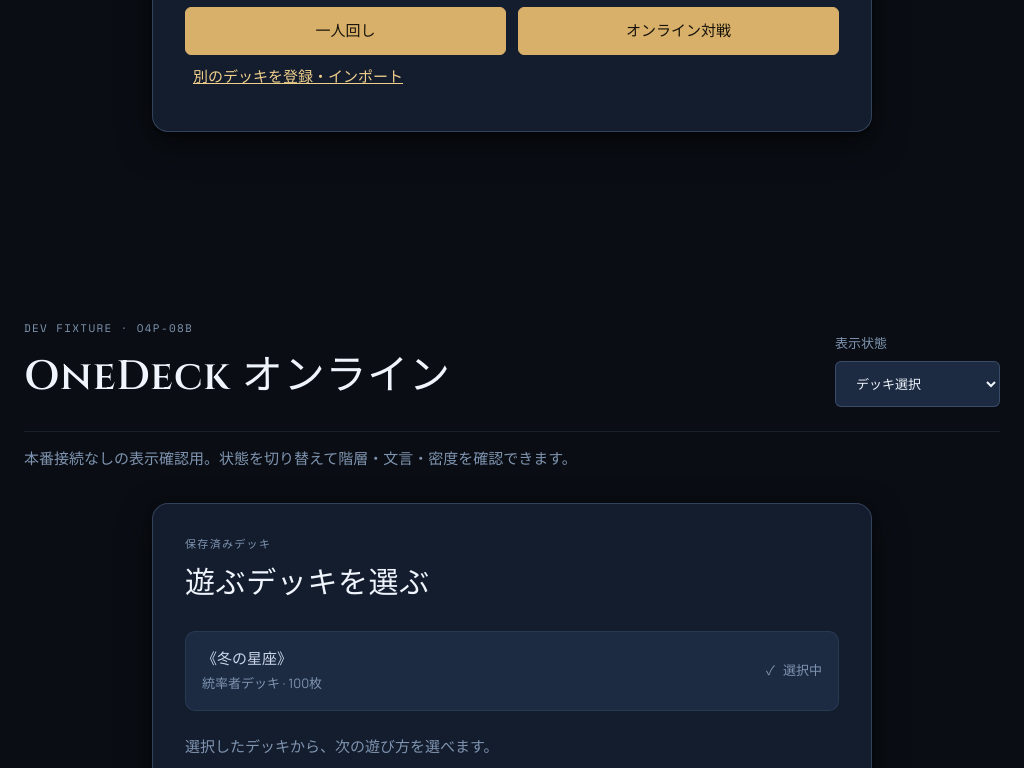
it: O4P-08B disconnected online lobby prototype › provides semantic actionable error state
(page scrolled)
Select "エラー" in the dropdown labelled "表示状態" at (918, 384), box [835,361,1000,407]
(page scrolled)
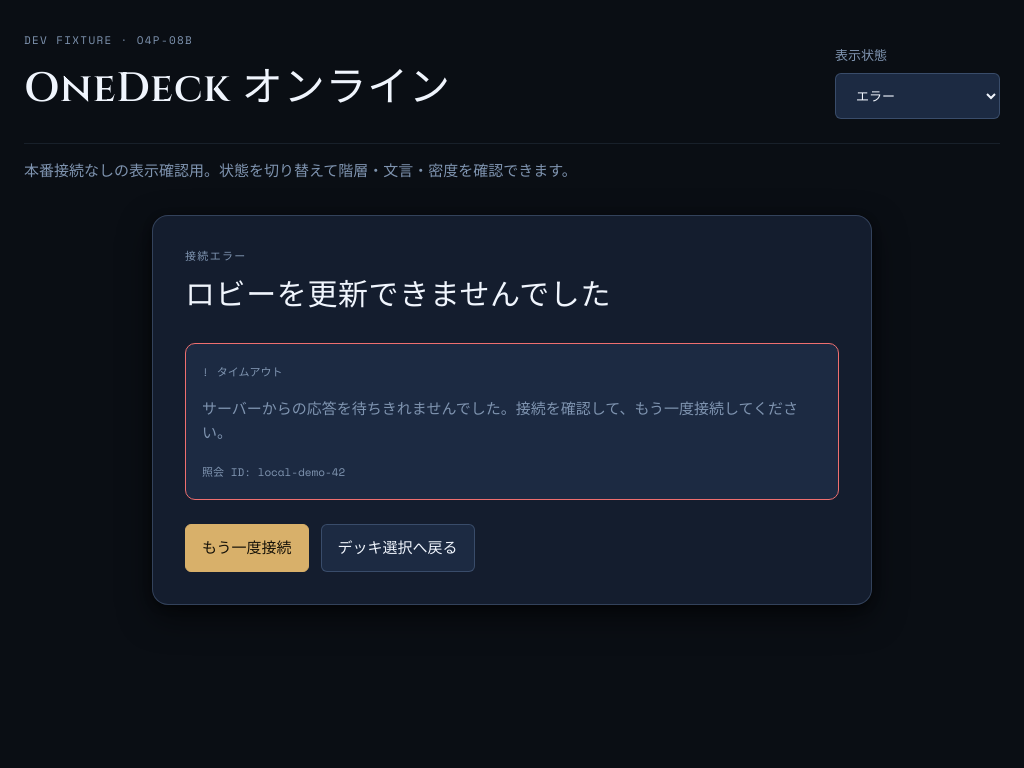
Expected: the message "! タイムアウト サーバーからの応答を待ちきれませんでした。接続を確認して、もう一度接続してください。 照会 ID: local-demo-42" is shown, [185,343,839,500]
Expected: the text "もう一度接続" is shown, [202,398,798,443]
